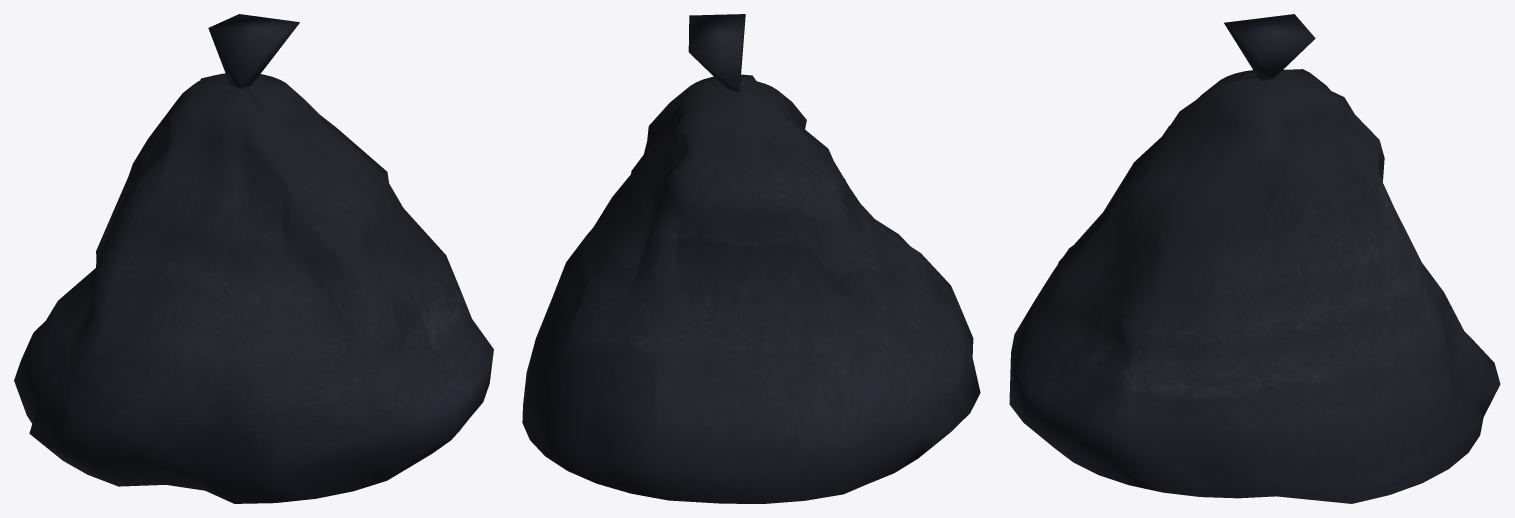
File: Müll_S.fbx
The picture shows the model from 3 angles, left to right: view 1: azimuth 30°, elevation 25°; view 2: azimuth 150°, elevation 25°; view 3: azimuth 270°, elevation 25°; orthographic projection. The views are drawn at different scales.
Visible parts, largest first — view 1: Cube.001; view 2: Cube.001; view 3: Cube.001.
Boxes of the visible parts, box(x1,y1,x2,y2) form: Cube.001: box(14, 14, 493, 503); Cube.001: box(522, 14, 980, 503); Cube.001: box(1009, 14, 1500, 503).
Bounding box in the file's own units: 70.58 × 64.45 × 71.75.
